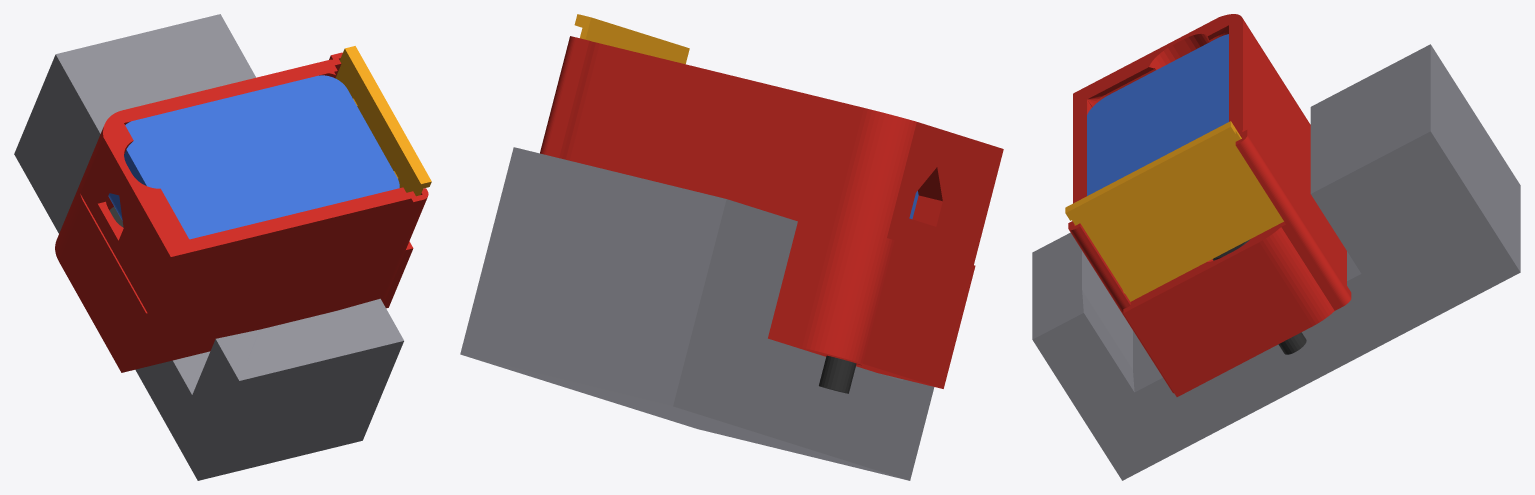
File: dragy_assembly_v5.obj
3 views of the same model, side by side, from view 1: azimuth 30°, elevation 25°; view 2: azimuth 150°, elevation 25°; view 3: azimuth 270°, elevation 25° (orthographic). The views are drawn at different scales.
Parts seen in each view (by area): view 1: front_swingarm_pad_schematic, dragy_holder, dragy, gate; view 2: front_swingarm_pad_schematic, dragy_holder, gate, screws; view 3: front_swingarm_pad_schematic, dragy_holder, gate, dragy.
Boxes of the visible parts, x1,y1,x2,y2 form: front_swingarm_pad_schematic: [14, 14, 403, 480]; dragy_holder: [55, 52, 428, 372]; dragy: [108, 75, 399, 239]; gate: [335, 46, 431, 196]; front_swingarm_pad_schematic: [460, 147, 934, 480]; dragy_holder: [540, 36, 1003, 388]; gate: [574, 14, 689, 64]; screws: [819, 355, 856, 393]; front_swingarm_pad_schematic: [1032, 44, 1520, 480]; dragy_holder: [1068, 14, 1351, 396]; gate: [1065, 121, 1283, 301]; dragy: [1087, 34, 1228, 195].
Bounding box in the file's own units: 51.2 × 63.68 × 74.76.
